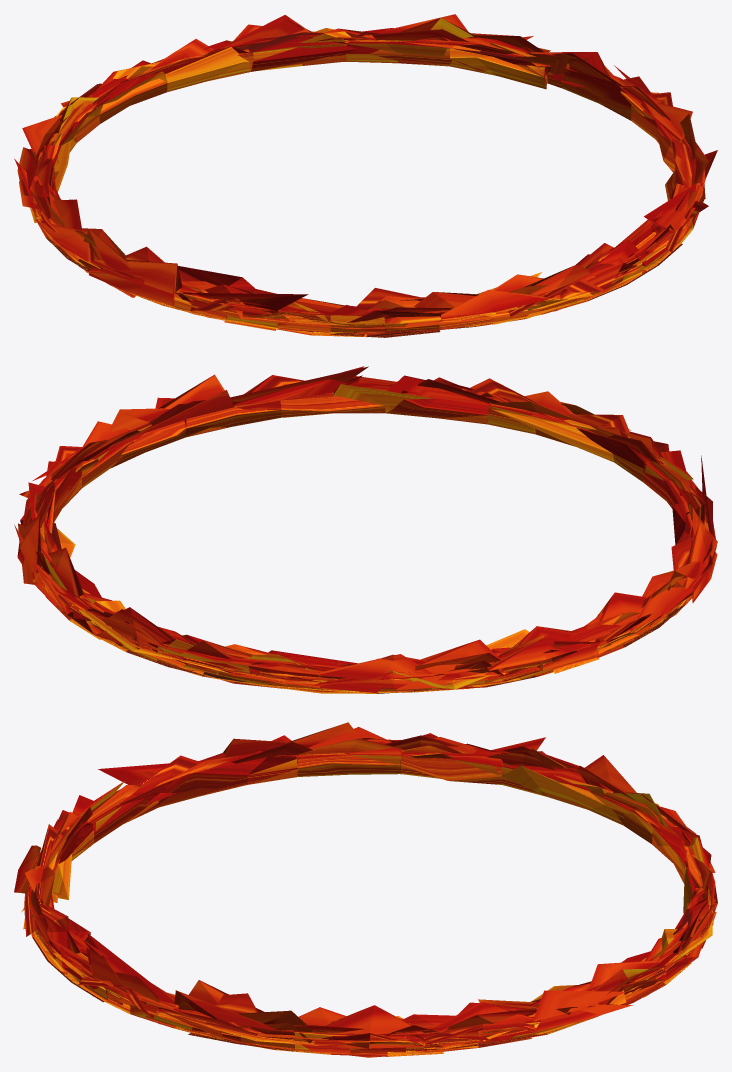
Rendered from circleFire.fbx.
3 renders of one model, top to bottom at view 1: azimuth 30°, elevation 25°; view 2: azimuth 150°, elevation 25°; view 3: azimuth 270°, elevation 25°, orthographic. The views are drawn at different scales.
Parts seen in each view (by area): view 1: Cube; view 2: Cube; view 3: Cube.
Boxes of the visible parts, box(x1,y1,x2,y2) form: Cube: box(14, 14, 717, 337); Cube: box(14, 366, 717, 693); Cube: box(14, 722, 717, 1057).
Size of the model in its own units: 45395 by 3365 by 44672.
1 material, 1 textured.
